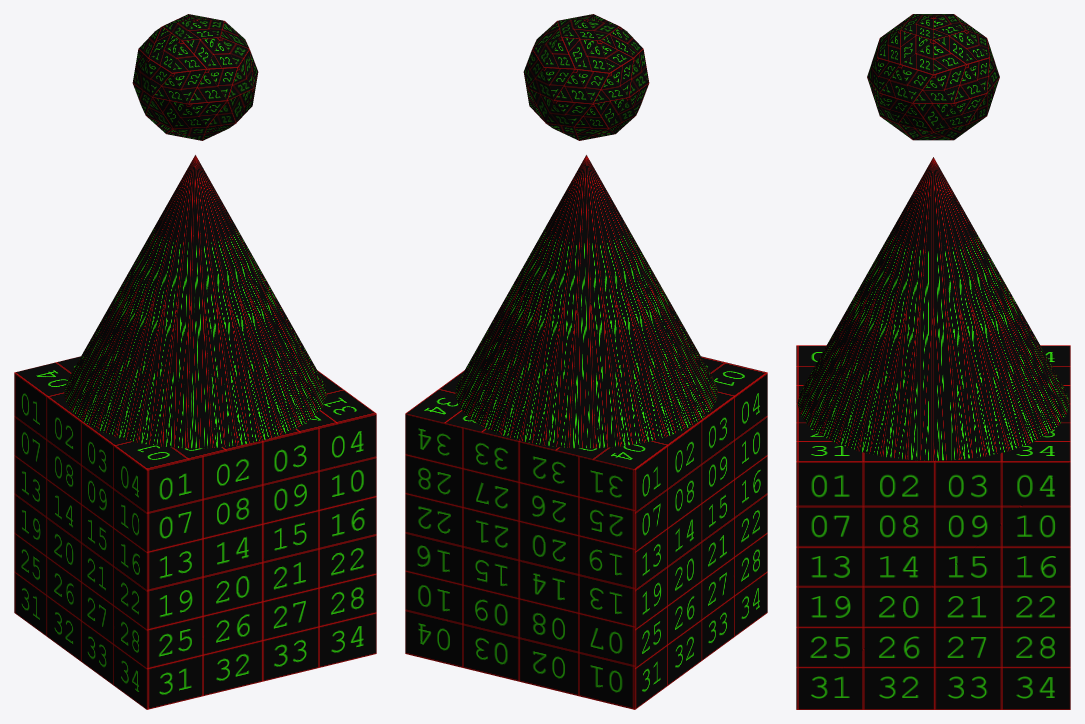
File: testModel2.dae
3 views of the same model, side by side, from view 1: azimuth 30°, elevation 25°; view 2: azimuth 150°, elevation 25°; view 3: azimuth 270°, elevation 25° (orthographic). The views are drawn at different scales.
Parts seen in each view (by area): view 1: Icosphere; view 2: Icosphere; view 3: Icosphere.
Part boxes in pixels (bbox=[...]): Icosphere: bbox=[14, 14, 376, 709]; Icosphere: bbox=[405, 14, 767, 709]; Icosphere: bbox=[796, 14, 1070, 709].
Size of the model in its own units: 2 by 2 by 5.11.
